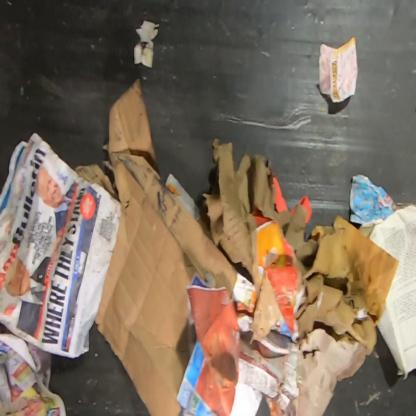cardboard: (197, 138, 400, 415), (74, 76, 239, 415)
